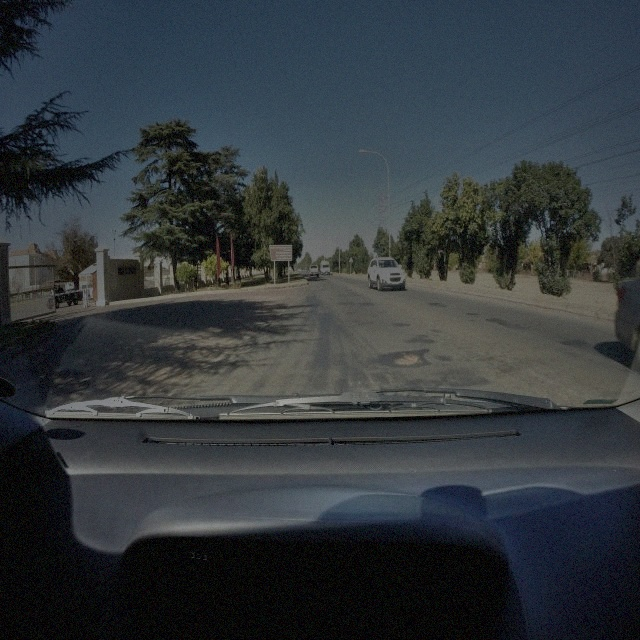pothole: (394, 353, 420, 367)
